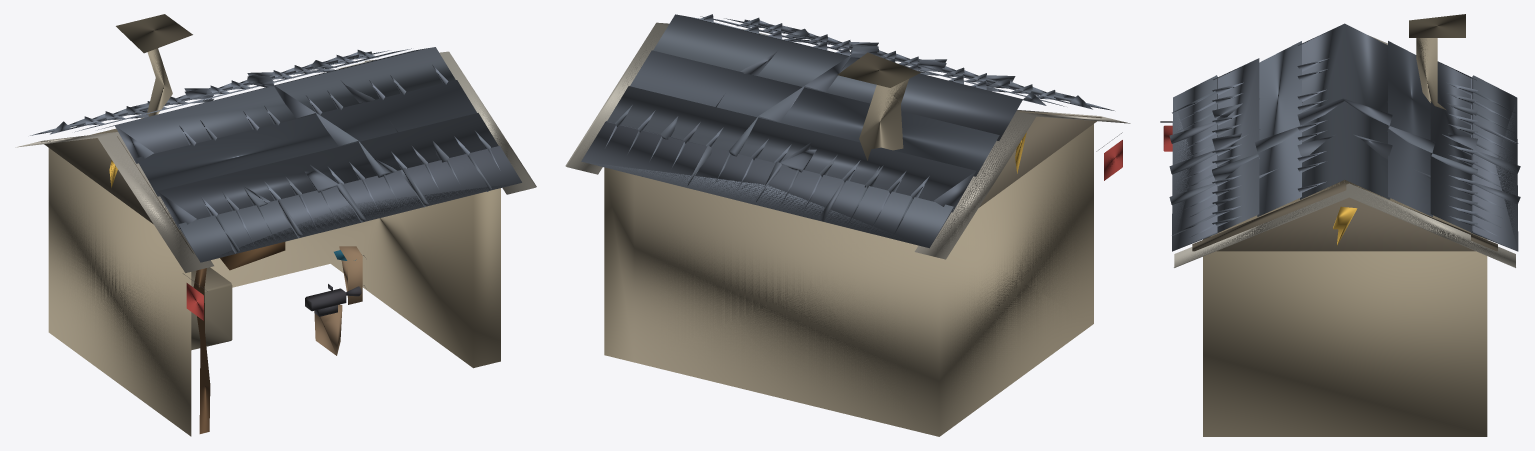
Rendered from biz_forge_t1.glb.
3 views of the same model, side by side, from view 1: azimuth 30°, elevation 25°; view 2: azimuth 150°, elevation 25°; view 3: azimuth 270°, elevation 25° (orthographic). The views are drawn at different scales.
Parts seen in each view (by area): view 1: stone, slate0, slate1, slate2, stone_dark, marble, wood_dark, wood, iron; view 2: stone, slate0, slate1, slate2, marble, stone_dark, red_wood; view 3: stone, slate0, slate1, slate2, stone_dark, marble, gold.
Part boxes in pixels (<box>): stone: <box>48,48,500,436</box>; slate0: <box>30,47,521,262</box>; slate1: <box>50,50,498,253</box>; slate2: <box>51,48,500,247</box>; stone_dark: <box>41,14,345,350</box>; marble: <box>15,51,536,272</box>; wood_dark: <box>193,242,285,433</box>; wood: <box>314,246,362,355</box>; iron: <box>183,255,366,316</box>; stone: <box>604,79,1093,436</box>; slate0: <box>581,14,1114,248</box>; slate1: <box>607,18,1092,237</box>; slate2: <box>605,14,1064,231</box>; marble: <box>565,22,1130,259</box>; stone_dark: <box>837,52,1102,238</box>; red_wood: <box>1104,140,1122,180</box>; stone: <box>1203,38,1487,436</box>; slate0: <box>1172,23,1518,251</box>; slate1: <box>1169,58,1520,235</box>; slate2: <box>1174,41,1516,236</box>; stone_dark: <box>1192,14,1497,251</box>; marble: <box>1174,35,1515,267</box>; gold: <box>1333,206,1357,245</box>.
Bounding box in the file's own units: 5.68 × 4.65 × 5.07.
